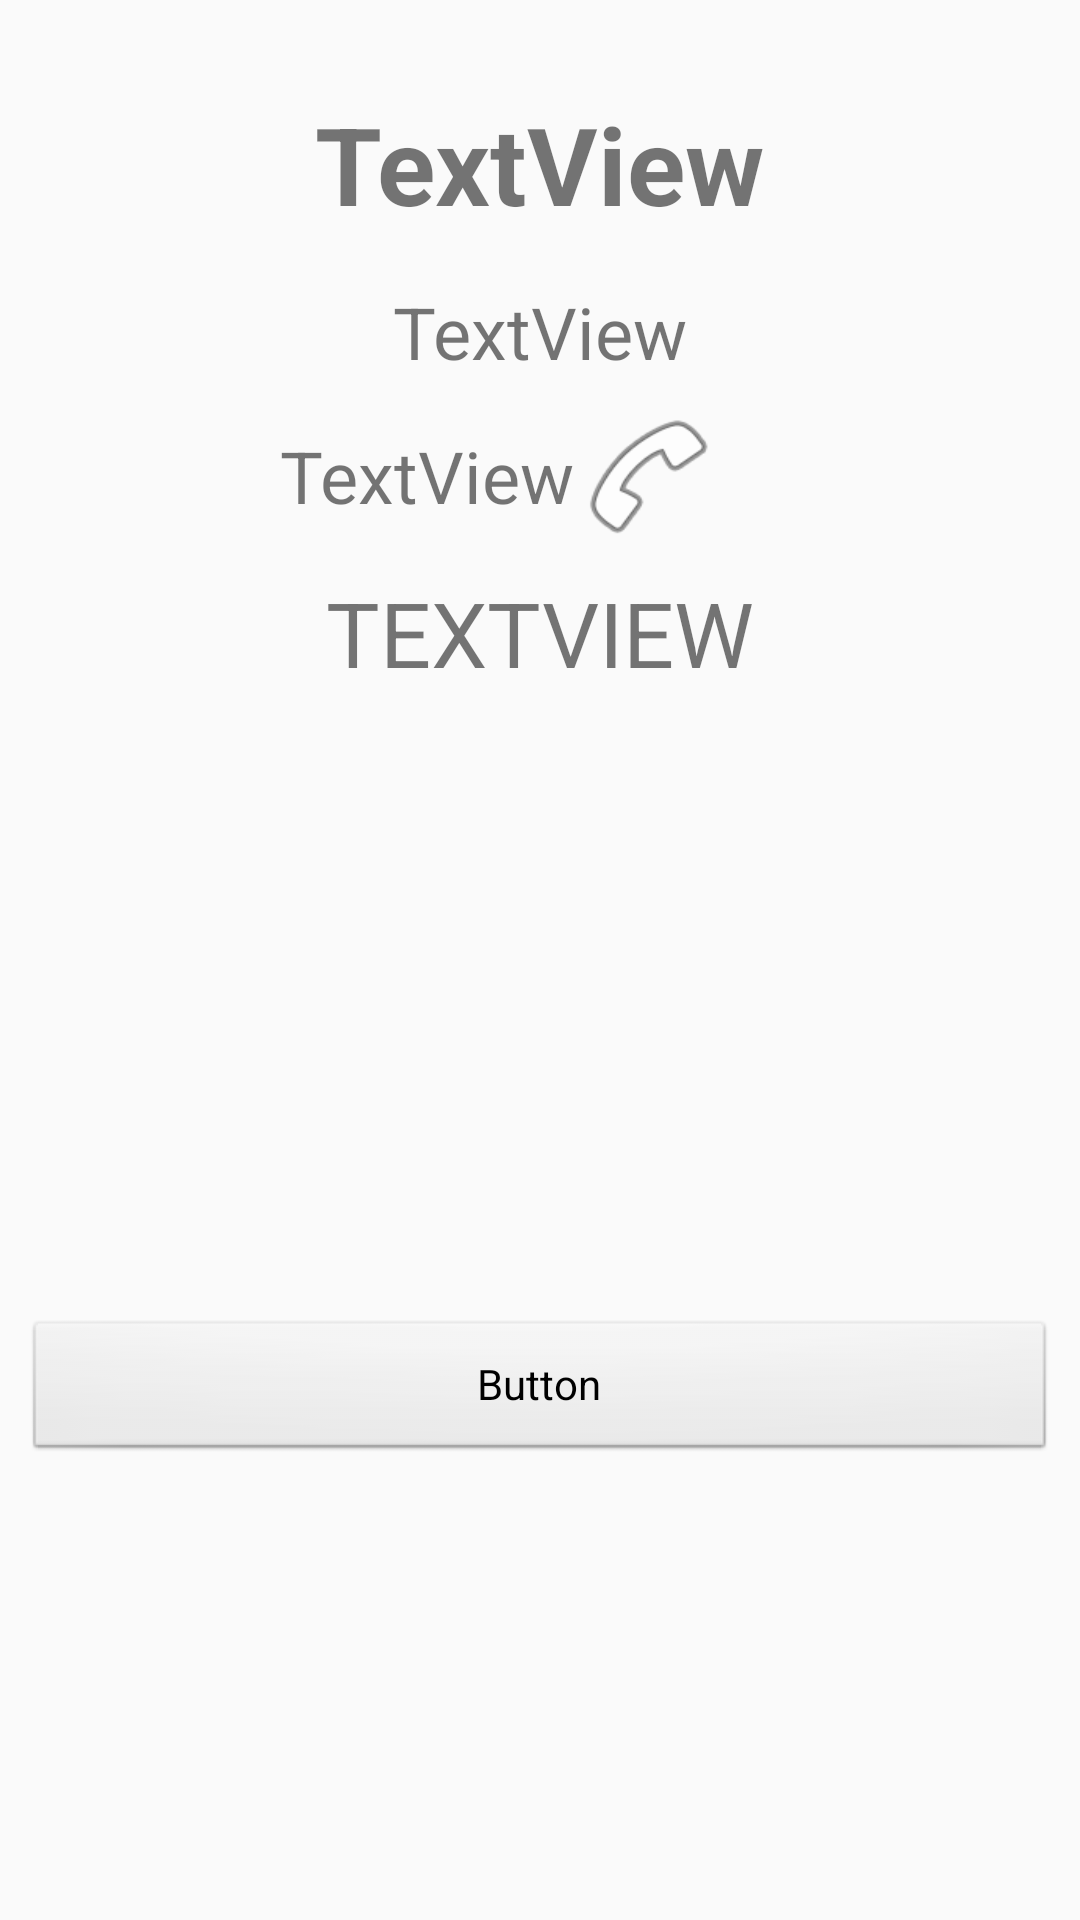

Where icons sit on this 1080px×1920px app screen, as (x1, y1, x2, y2):
call: (590, 420, 708, 533)
